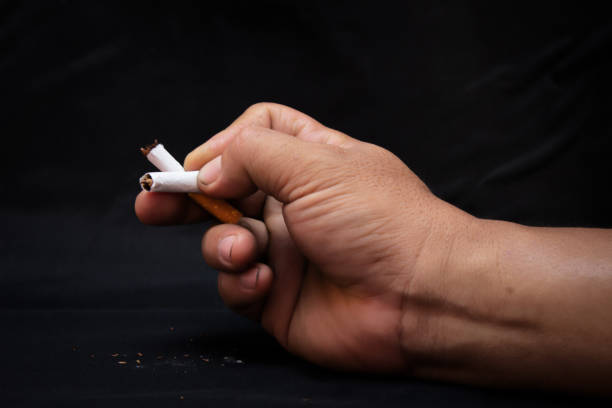cigarette: (142, 141, 242, 224), (140, 169, 196, 192)
